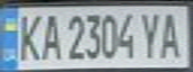0: (100, 10, 121, 60)
2: (63, 10, 84, 61)
3: (81, 10, 103, 60)
4: (118, 9, 139, 60)
A: (157, 8, 187, 60), (36, 10, 63, 61)
K: (12, 10, 45, 62)
Y: (136, 8, 166, 60)
